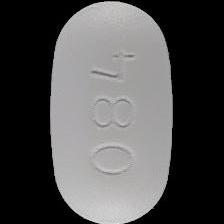60505-0084: (0, 0, 224, 224)
